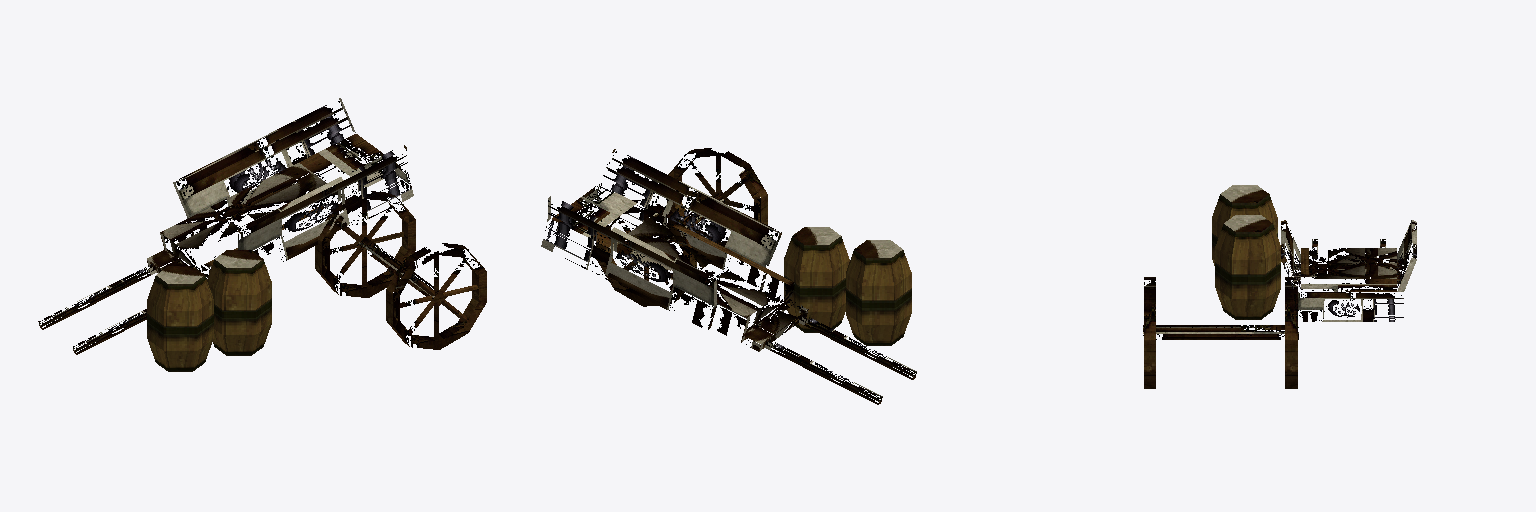
The picture shows the model from 3 angles: view 1: azimuth 30°, elevation 25°; view 2: azimuth 150°, elevation 25°; view 3: azimuth 270°, elevation 25°; orthographic projection.
Parts seen in each view (by area): view 1: Mesh_1, Mesh_0; view 2: Mesh_1, Mesh_0; view 3: Mesh_1, Mesh_0.
Part boxes in pixels (x1,y1,x2,y2): Mesh_1: (38, 98, 486, 354); Mesh_0: (147, 251, 271, 371); Mesh_1: (541, 148, 916, 404); Mesh_0: (784, 235, 911, 345); Mesh_1: (1143, 185, 1416, 388); Mesh_0: (1212, 194, 1280, 319).
Size of the model in its own units: 4.37 by 1.83 by 3.15.
2 materials, 2 textured.